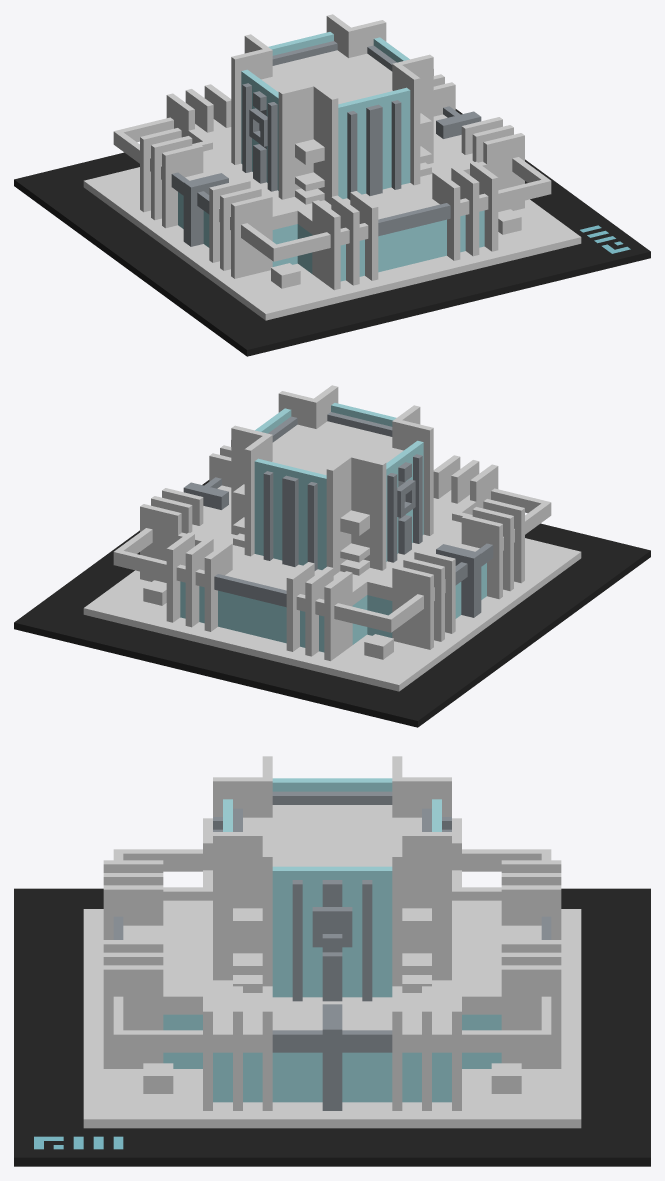
File: concept_structure_03_lev3.glb
The picture shows the model from 3 angles, top to bottom: view 1: azimuth 30°, elevation 25°; view 2: azimuth 150°, elevation 25°; view 3: azimuth 270°, elevation 25°; orthographic projection. The views are drawn at different scales.
Parts seen in each view (by area): view 1: concept_structure_03_lev3; view 2: concept_structure_03_lev3; view 3: concept_structure_03_lev3.
Boxes of the visible parts, x1=… form: concept_structure_03_lev3: x1=14, y1=14, x2=650, y2=356; concept_structure_03_lev3: x1=14, y1=385, x2=650, y2=727; concept_structure_03_lev3: x1=14, y1=756, x2=650, y2=1166.
Size of the model in its own units: 24.97 by 9.76 by 24.97.
1 material, 1 textured.
